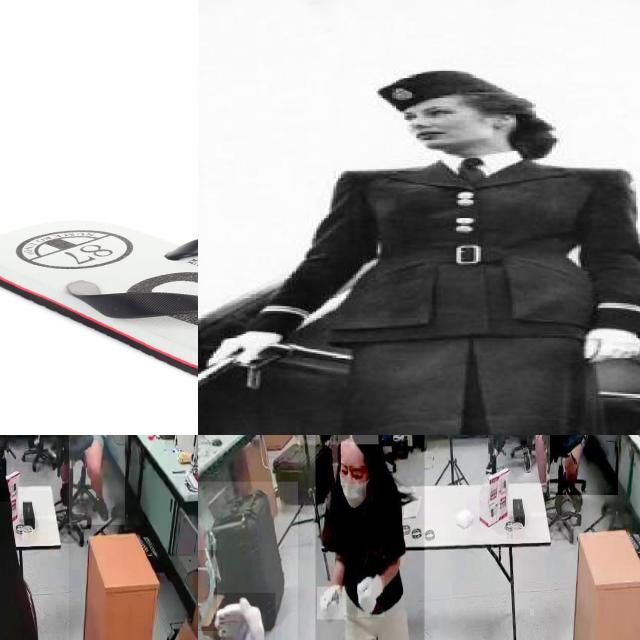Sandals: (0, 216, 198, 411)
face_mask: (330, 466, 370, 512), (198, 550, 217, 631)
face_nomask: (390, 100, 492, 156)
hand_glove: (213, 592, 275, 640), (201, 332, 280, 368), (576, 327, 640, 363), (358, 576, 384, 617), (317, 586, 347, 620)
head_nohelmet: (378, 71, 490, 106), (338, 435, 379, 445)
person: (204, 60, 640, 435), (315, 435, 424, 640), (198, 481, 298, 640), (0, 437, 69, 640), (68, 435, 125, 525), (549, 435, 618, 496), (508, 435, 539, 468)
shoes: (94, 491, 110, 525)
